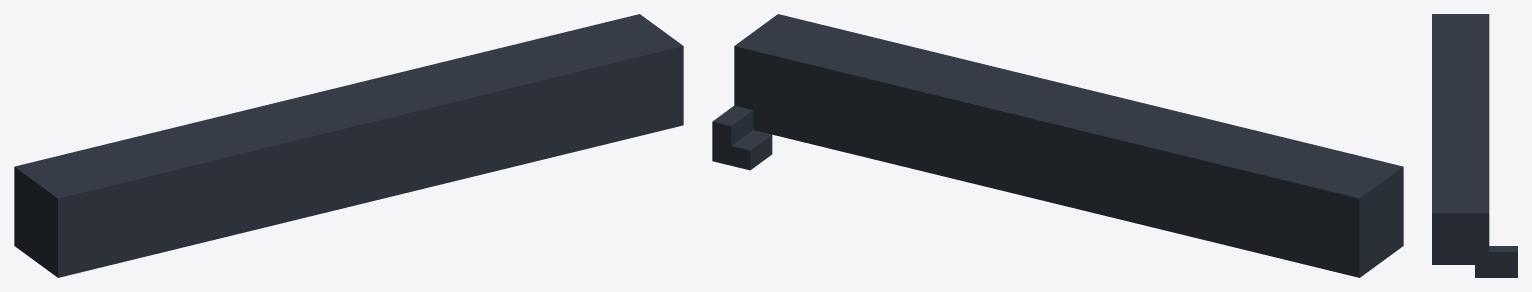
File: bolt_carrier_bolt.glb
3 views of the same model, side by side, from view 1: azimuth 30°, elevation 25°; view 2: azimuth 150°, elevation 25°; view 3: azimuth 270°, elevation 25° (orthographic). The views are drawn at different scales.
Visible parts, largest first — view 1: bolt_carrier_bolt:bolt-carrier; view 2: bolt_carrier_bolt:bolt-carrier; view 3: bolt_carrier_bolt:bolt-carrier.
Boxes of the visible parts, x1,y1,x2,y2 form: bolt_carrier_bolt:bolt-carrier: (14,14,683,277); bolt_carrier_bolt:bolt-carrier: (712,14,1403,277); bolt_carrier_bolt:bolt-carrier: (1432,14,1517,277).
Bounding box in the file's own units: 0.132 × 0.02 × 0.024.
